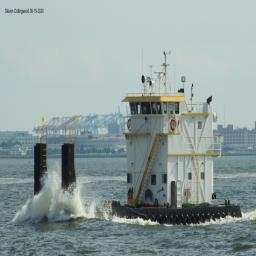tugboat: (29, 48, 245, 233)
